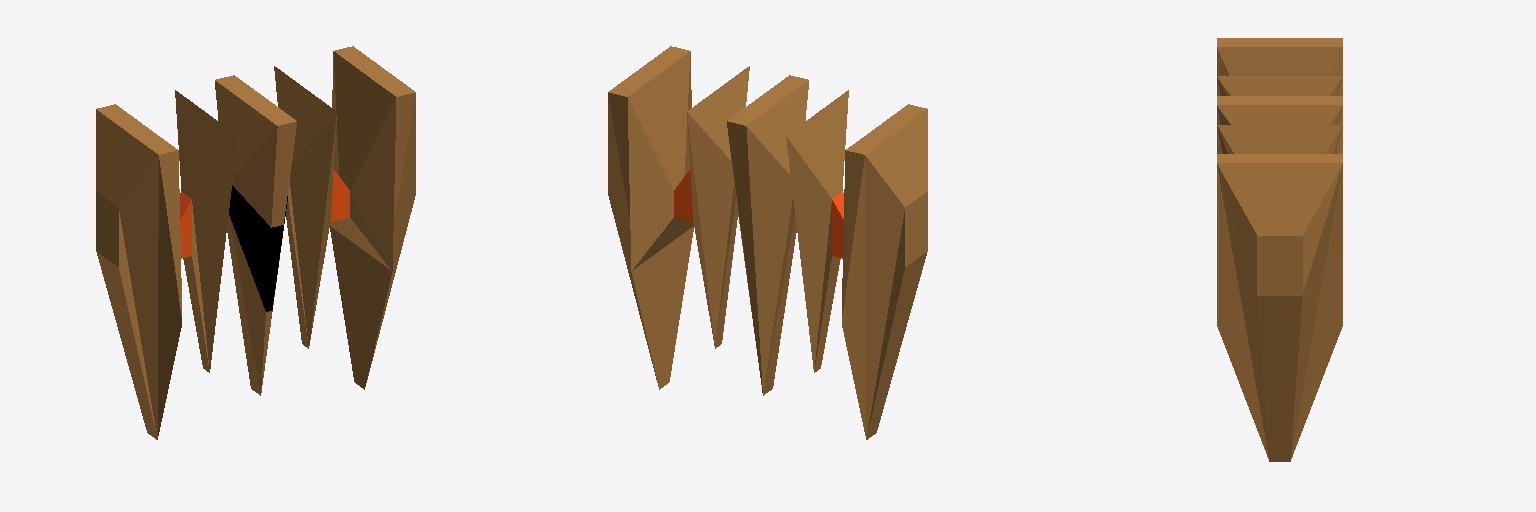
File: ship1.obj
The picture shows the model from 3 angles: view 1: azimuth 30°, elevation 25°; view 2: azimuth 150°, elevation 25°; view 3: azimuth 270°, elevation 25°; orthographic projection.
Parts seen in each view (by area): view 1: ship1_cube1; view 2: ship1_cube1; view 3: ship1_cube1.
Boxes of the visible parts, box(x1,y1,x2,y2) form: ship1_cube1: box(96, 46, 415, 439); ship1_cube1: box(608, 46, 927, 439); ship1_cube1: box(1217, 38, 1342, 461).
Size of the model in its own units: 2.84 by 2.84 by 1.05.